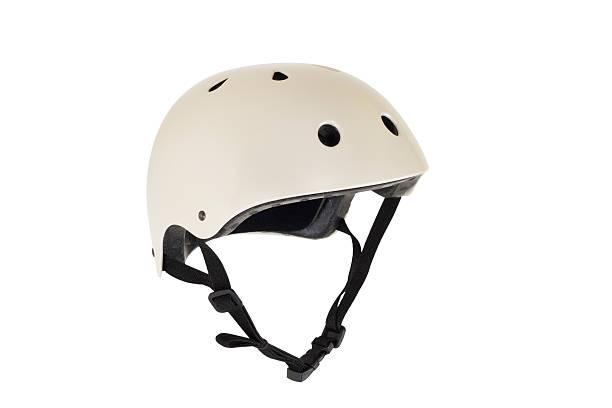helmet: (111, 25, 451, 354)
